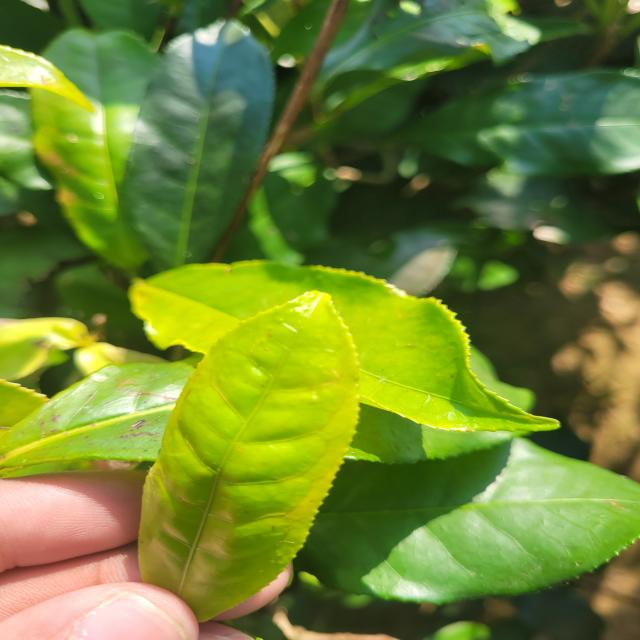Catagory A(1-2 days): (123, 286, 370, 626)
